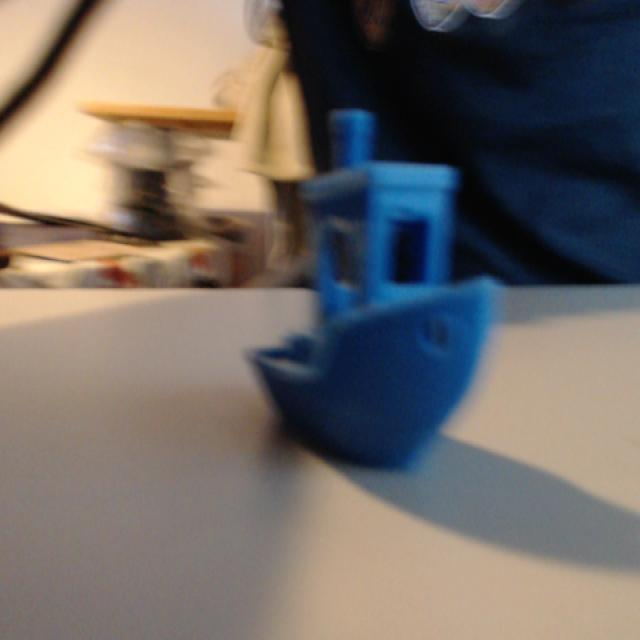benchy: (244, 105, 498, 472)
